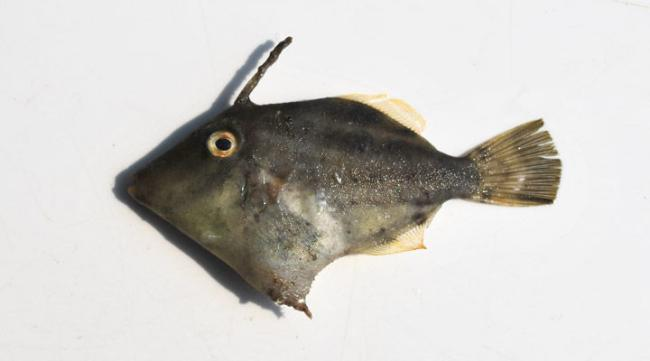fish: (115, 36, 564, 321)
